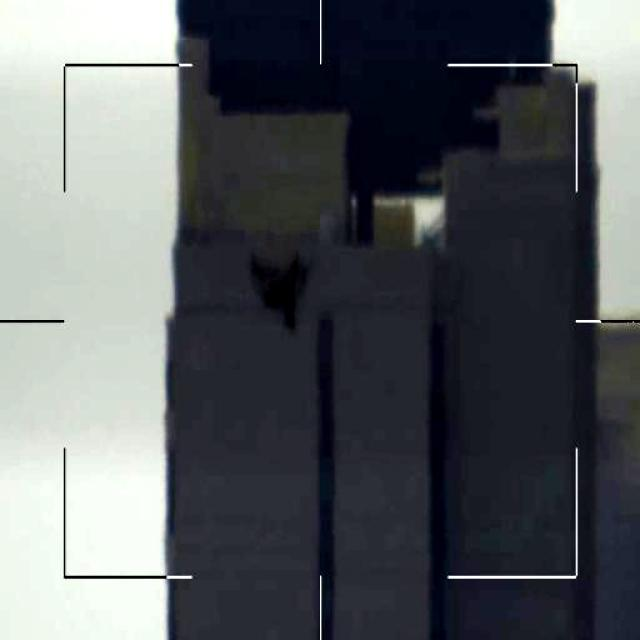bird: (244, 236, 312, 330)
